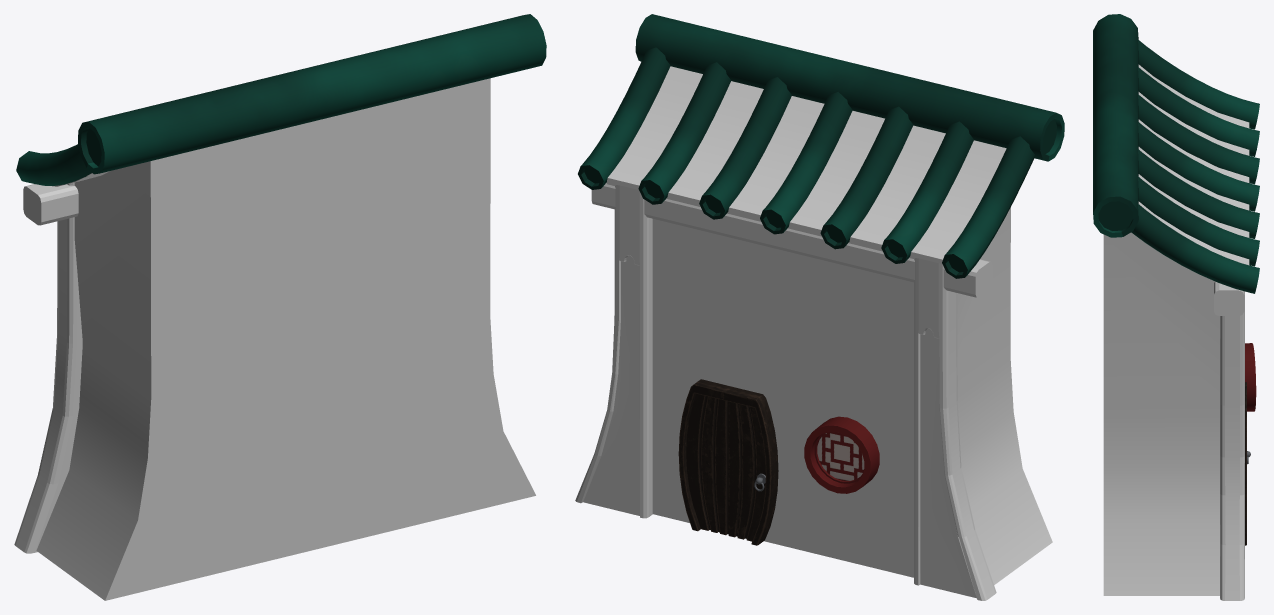
The model's file is Building01_v5.fbx.
3 views of the same model, side by side, from view 1: azimuth 30°, elevation 25°; view 2: azimuth 150°, elevation 25°; view 3: azimuth 270°, elevation 25° (orthographic). The views are drawn at different scales.
Visible parts, largest first — view 1: Building01; view 2: Building01; view 3: Building01.
Boxes of the visible parts, left/top/right/bottom form: Building01: left=14, top=14, right=546, bottom=600; Building01: left=575, top=14, right=1064, bottom=600; Building01: left=1093, top=14, right=1259, bottom=600.
Size of the model in its own units: 590 by 596 by 224.
